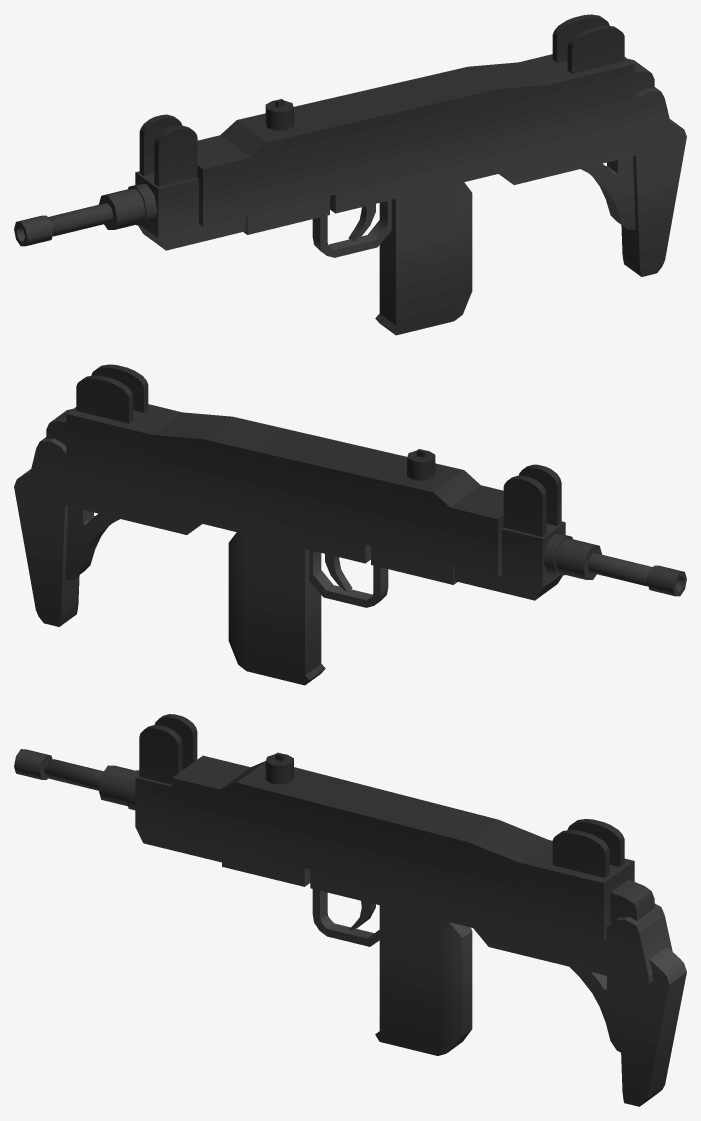
The model's file is Uzi.obj.
The picture shows the model from 3 angles, top to bottom: view 1: azimuth 30°, elevation 25°; view 2: azimuth 150°, elevation 25°; view 3: azimuth 330°, elevation 25°; orthographic projection.
Visible parts, largest first — view 1: Handle1; view 2: Handle1; view 3: Handle1.
Part boxes in pixels (left/top/right/bottom): Handle1: left=14, top=14, right=686, bottom=335; Handle1: left=14, top=364, right=686, bottom=685; Handle1: left=14, top=714, right=686, bottom=1106.
Bounding box in the file's own units: 1.58 × 0.6011 × 0.1278.
1 material, 1 textured.
